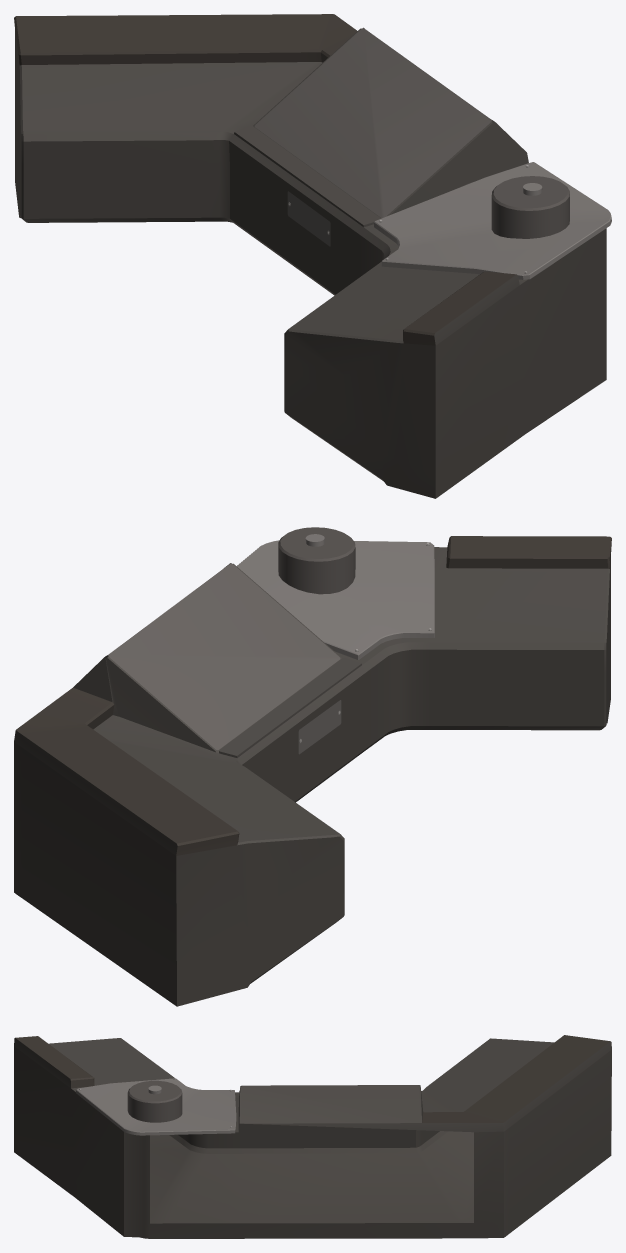
The model's file is Desk model_desktop.fbx.
3 views of the same model, one above another, from view 1: azimuth 30°, elevation 25°; view 2: azimuth 150°, elevation 25°; view 3: azimuth 270°, elevation 25° (orthographic). The views are drawn at different scales.
Parts seen in each view (by area): view 1: Desk_base_desktop, PVT_Panel.002; view 2: Desk_base_desktop, PVT_Panel.002; view 3: Desk_base_desktop, PVT_Panel.002.
Boxes of the visible parts, <box> form: Desk_base_desktop: <box>14,14,606,498</box>; PVT_Panel.002: <box>374,162,611,279</box>; Desk_base_desktop: <box>14,536,611,1006</box>; PVT_Panel.002: <box>237,527,434,659</box>; Desk_base_desktop: <box>14,1035,611,1238</box>; PVT_Panel.002: <box>76,1078,236,1135</box>.
Bounding box in the file's own units: 1.4 × 0.8117 × 3.1.
